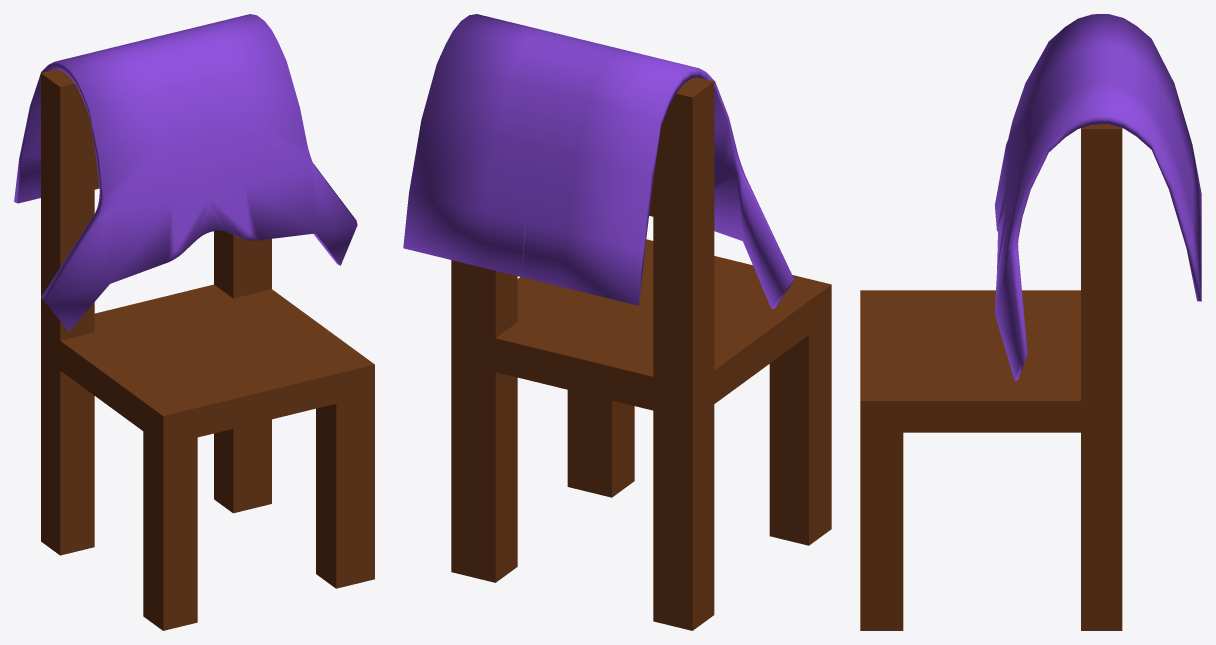
The model's file is SillaConRemera.fbx.
3 views of the same model, side by side, from view 1: azimuth 30°, elevation 25°; view 2: azimuth 150°, elevation 25°; view 3: azimuth 270°, elevation 25° (orthographic). The views are drawn at different scales.
Visible parts, largest first — view 1: Cube.013, Cube; view 2: Cube.013, Cube; view 3: Cube.013, Cube.
Part boxes in pixels (<box>): Cube.013: <box>41,69,374,630</box>; Cube: <box>14,14,357,331</box>; Cube.013: <box>451,77,831,630</box>; Cube: <box>403,14,794,308</box>; Cube.013: <box>860,124,1122,630</box>; Cube: <box>994,14,1201,380</box>.
Bounding box in the file's own units: 103 × 150 × 90.17.
